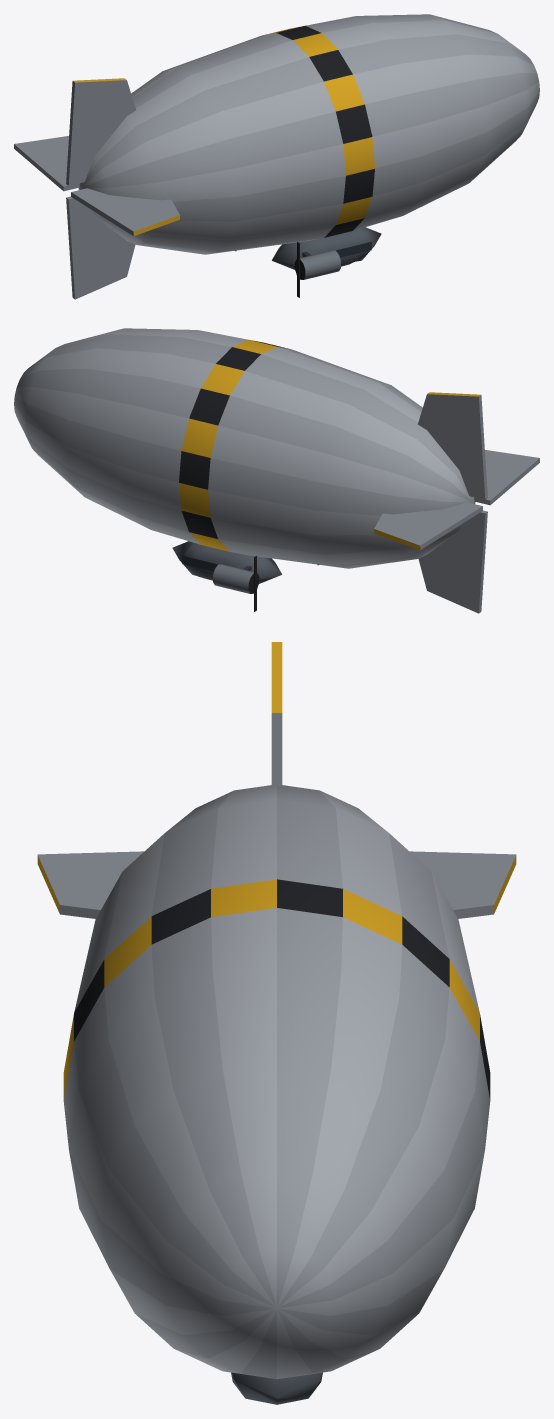
The model's file is blimp.glb.
3 views of the same model, one above another, from view 1: azimuth 30°, elevation 25°; view 2: azimuth 150°, elevation 25°; view 3: azimuth 270°, elevation 25° (orthographic). The views are drawn at different scales.
Visible parts, largest first — view 1: Envelope, Gondola; view 2: Envelope, Gondola; view 3: Envelope, Gondola.
Part boxes in pixels (x1,y1,x2,y2): Envelope: (14,14,539,299); Gondola: (235,227,381,297); Envelope: (14,328,539,613); Gondola: (172,541,318,611); Envelope: (37,642,516,1378); Gondola: (231,1372,322,1404).
Bounding box in the file's own units: 14.4 × 7.2 × 6.4.
